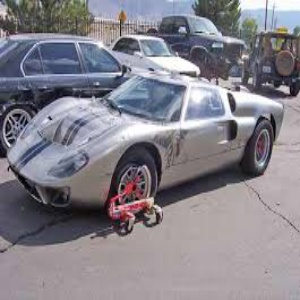door: (156, 117, 243, 178)
